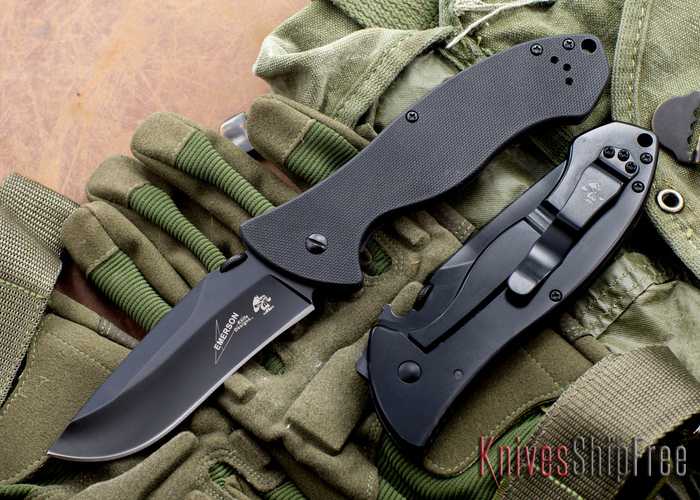knife: (37, 231, 324, 467)
